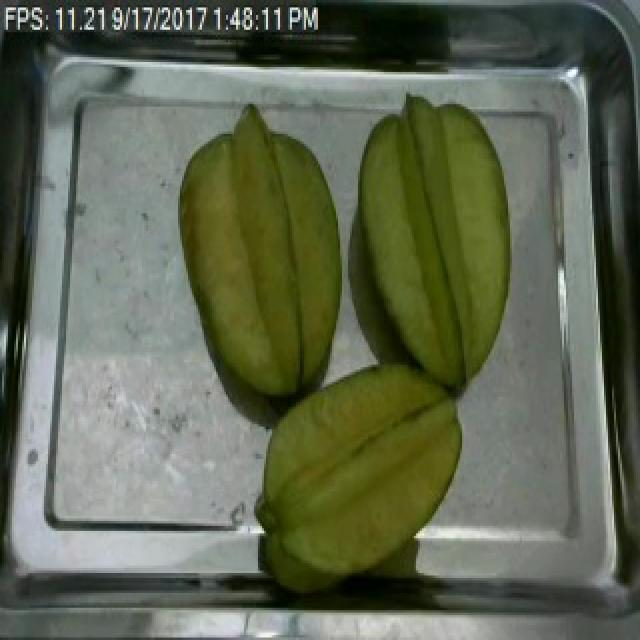fruit: (168, 111, 358, 412), (246, 352, 476, 600), (350, 90, 524, 404)
